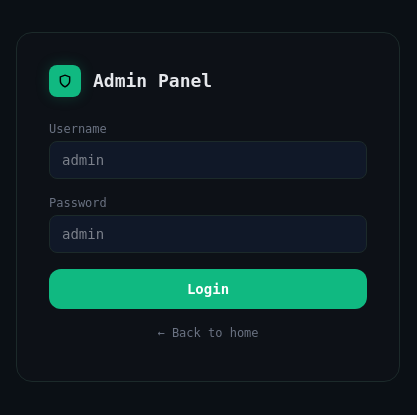
Test: AdminPanel › login › muestra error en inglés cuando el idioma es en
Step 1. Type "root" into the field with placeholder "admin" → (208, 160), box [49, 141, 367, 179]
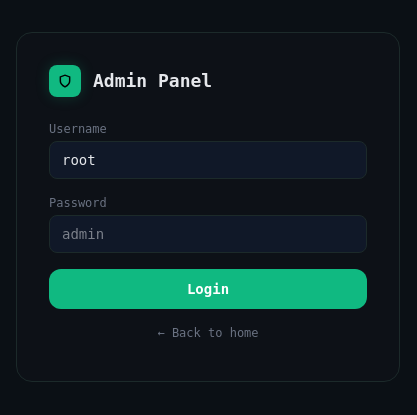
Step 2. Type "wrong" into the password field with placeholder "admin" → (208, 234), box [49, 215, 367, 253]
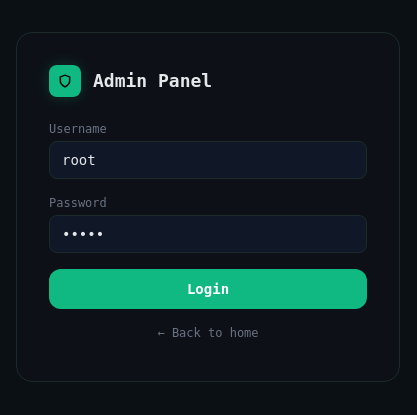
Step 3. Click the button "Login" → (208, 289), box [49, 269, 367, 309]
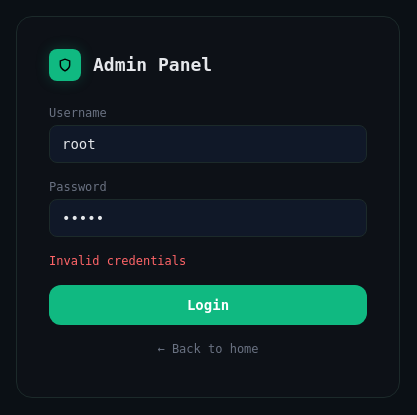
Result: the text "Invalid credentials" is shown at [49, 254, 186, 268]
